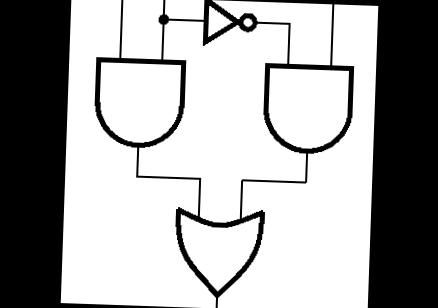and: (84, 49, 190, 156), (254, 56, 360, 162)
not: (193, 0, 262, 53)
or: (166, 202, 270, 305)
